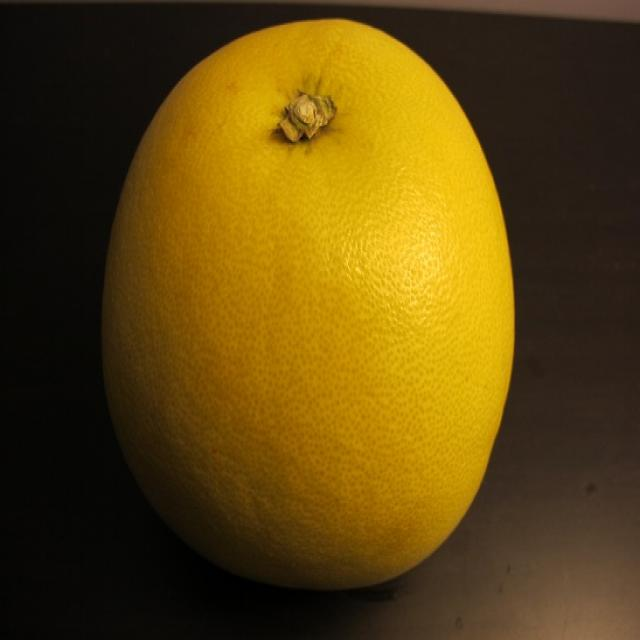Orange: (101, 20, 517, 597)
